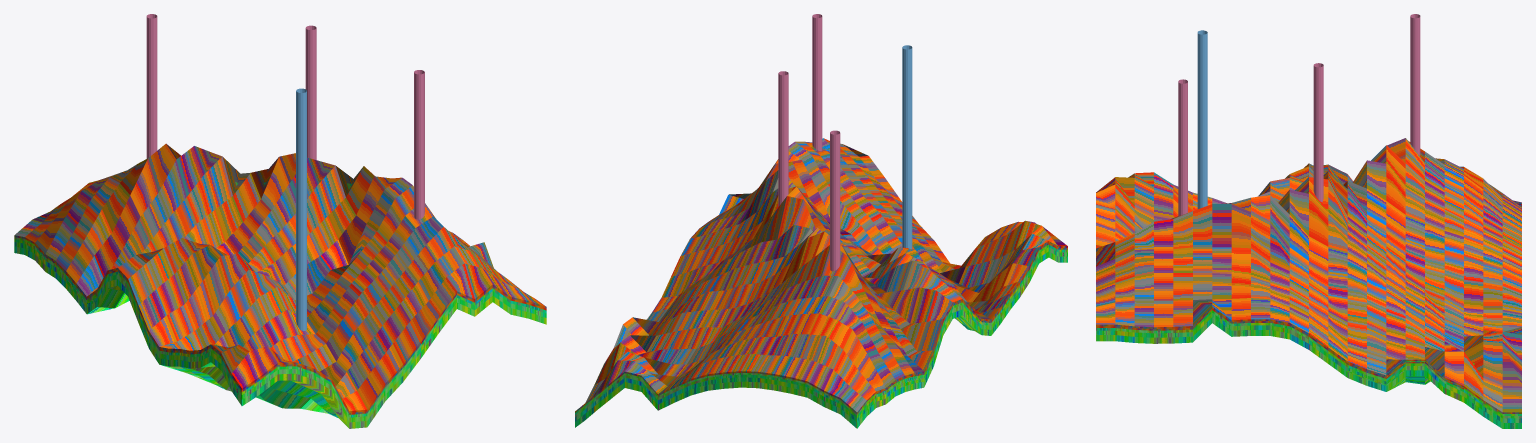
The model's file is reservoir-web.glb.
The picture shows the model from 3 angles, left to right: view 1: azimuth 30°, elevation 25°; view 2: azimuth 150°, elevation 25°; view 3: azimuth 270°, elevation 25°; orthographic projection. The views are drawn at different scales.
Parts seen in each view (by area): view 1: reservoir, INJ, PROD-2, PROD-3, PROD-1; view 2: reservoir, INJ, PROD-2, PROD-3, PROD-1; view 3: reservoir, INJ, PROD-2, PROD-1, PROD-3.
Boxes of the visible parts, box(x1,y1,x2,y2) form: reservoir: box(14, 143, 546, 428); INJ: box(296, 88, 306, 330); PROD-2: box(146, 14, 157, 158); PROD-3: box(414, 70, 424, 219); PROD-1: box(305, 25, 316, 159); reservoir: box(575, 138, 1067, 428); INJ: box(902, 45, 912, 248); PROD-2: box(830, 130, 840, 271); PROD-3: box(812, 14, 822, 151); PROD-1: box(778, 71, 788, 206); reservoir: box(1096, 138, 1521, 428); INJ: box(1197, 30, 1207, 208); PROD-2: box(1410, 14, 1420, 155); PROD-1: box(1313, 63, 1323, 201); PROD-3: box(1178, 79, 1187, 216).
Bounding box in the file's own units: 0.3864 × 0.4023 × 0.5.
Materials: 3 (1 with a texture image).
